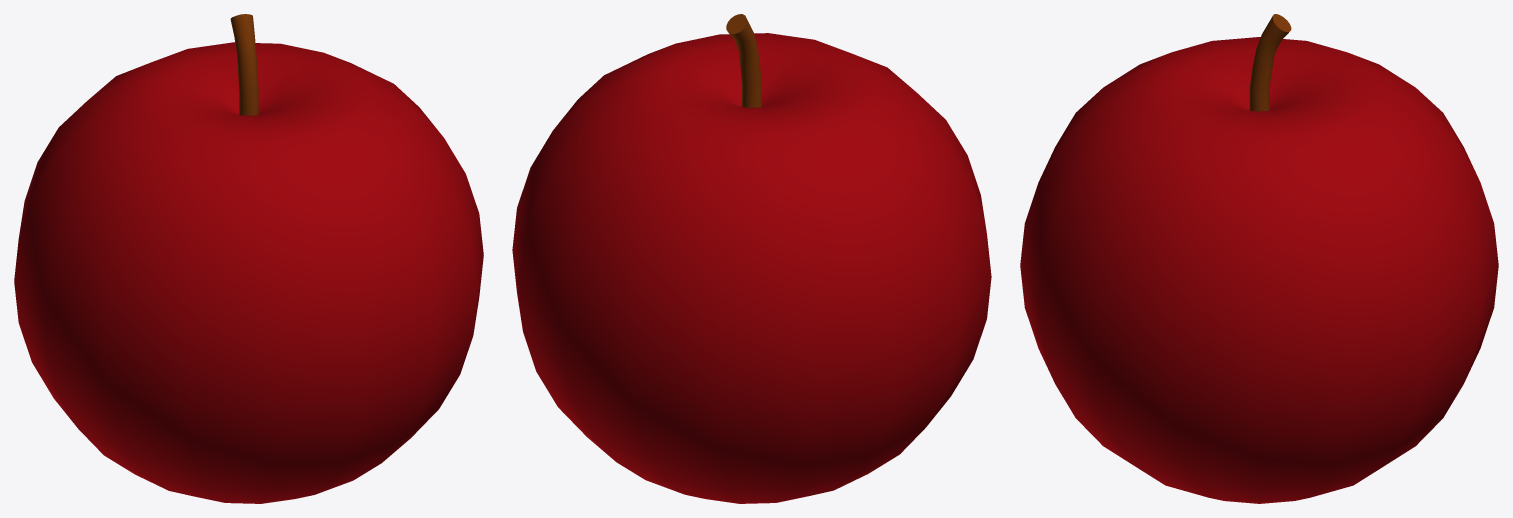
Rendered from Apple.fbx.
The picture shows the model from 3 angles, left to right: view 1: azimuth 30°, elevation 25°; view 2: azimuth 150°, elevation 25°; view 3: azimuth 270°, elevation 25°; orthographic projection. The views are drawn at different scales.
Parts seen in each view (by area): view 1: Sphere; view 2: Sphere; view 3: Sphere.
Boxes of the visible parts, x1,y1,x2,y2 form: Sphere: (14, 14, 483, 503); Sphere: (512, 14, 991, 503); Sphere: (1020, 14, 1498, 503).
Bounding box in the file's own units: 200 × 210 × 200.
